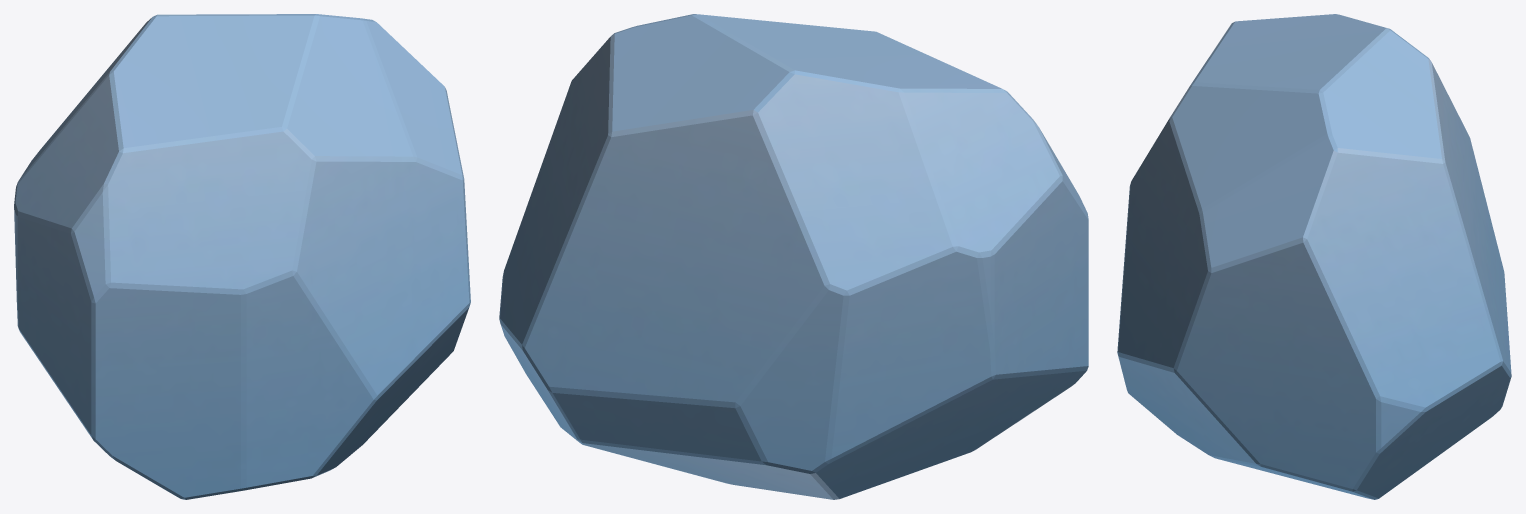
The model's file is Rock1.fbx.
3 renders of one model, left to right at view 1: azimuth 30°, elevation 25°; view 2: azimuth 150°, elevation 25°; view 3: azimuth 270°, elevation 25°, orthographic. The views are drawn at different scales.
Visible parts, largest first — view 1: Rock3_1; view 2: Rock3_1; view 3: Rock3_1.
Part boxes in pixels (left/top/right/bottom): Rock3_1: left=14, top=14, right=470, bottom=499; Rock3_1: left=499, top=14, right=1088, bottom=499; Rock3_1: left=1117, top=14, right=1511, bottom=499.
Bounding box in the file's own units: 0.8542 × 0.729 × 0.6935.
